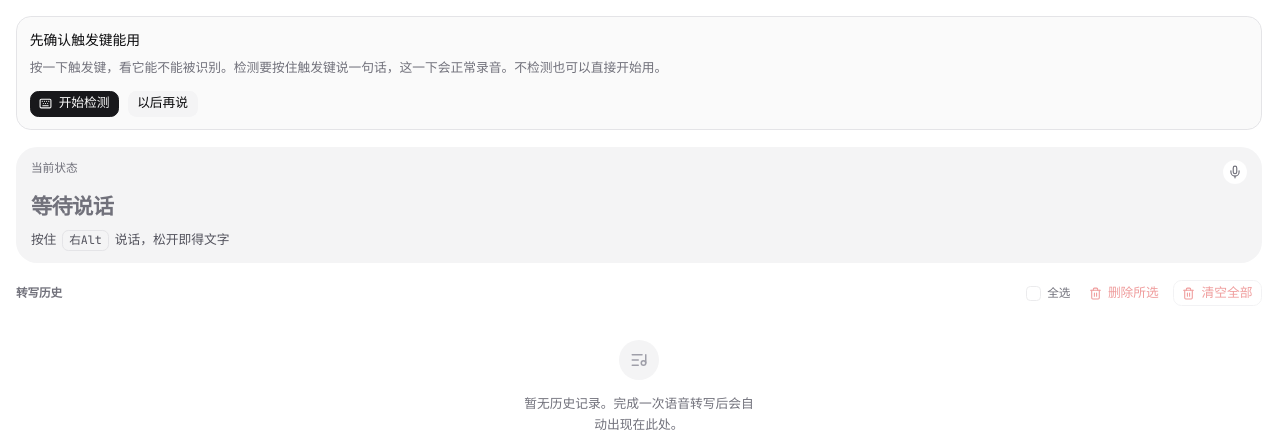
Test: Home 触发键自检卡 › 抓到的是其他程序注入的键时说明不会起录
The image size is (1279, 447).
Click the button "开始检测": click(74, 104) [30,91,119,117]
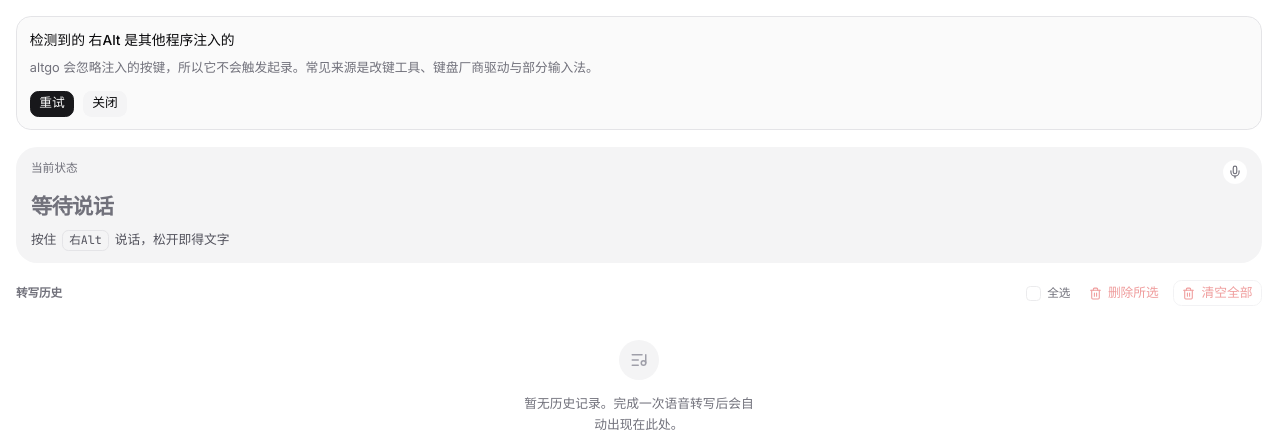
Expected: the text "检测到的 右Alt 是其他程序注入的" is shown, [30,30,235,50]
Expected: the text "altgo 会忽略注入的按键，所以它不会触发起录。常见来源是改键工具、键盘厂商驱动与部分输入法。" is shown, [30,60,599,75]
